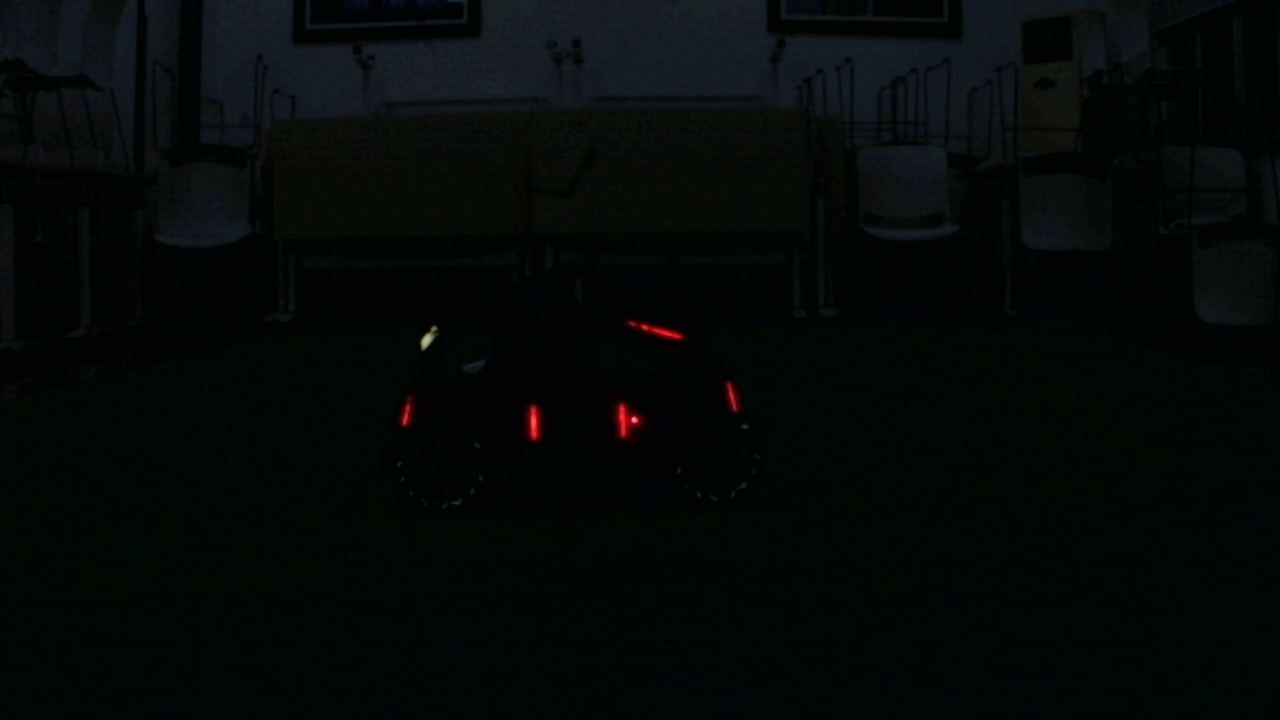lamp: (616, 399, 633, 444), (525, 403, 539, 445), (397, 392, 412, 428), (724, 376, 737, 415)
pair1: (528, 406, 634, 437)
